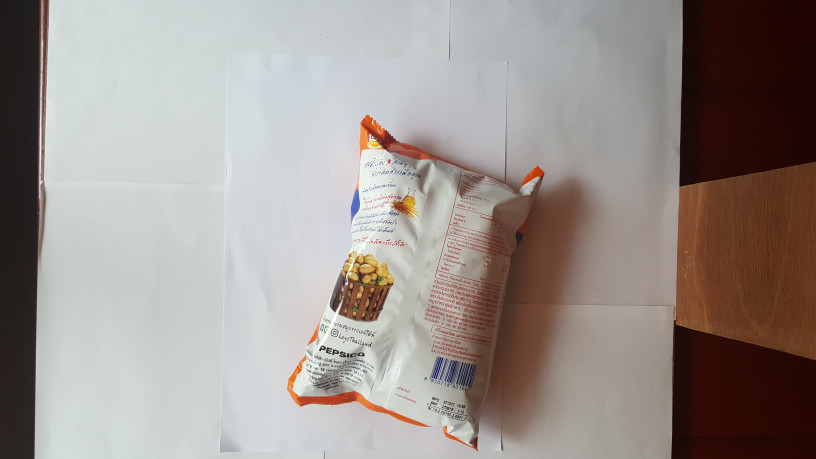lays-bbq: (294, 113, 546, 452)
